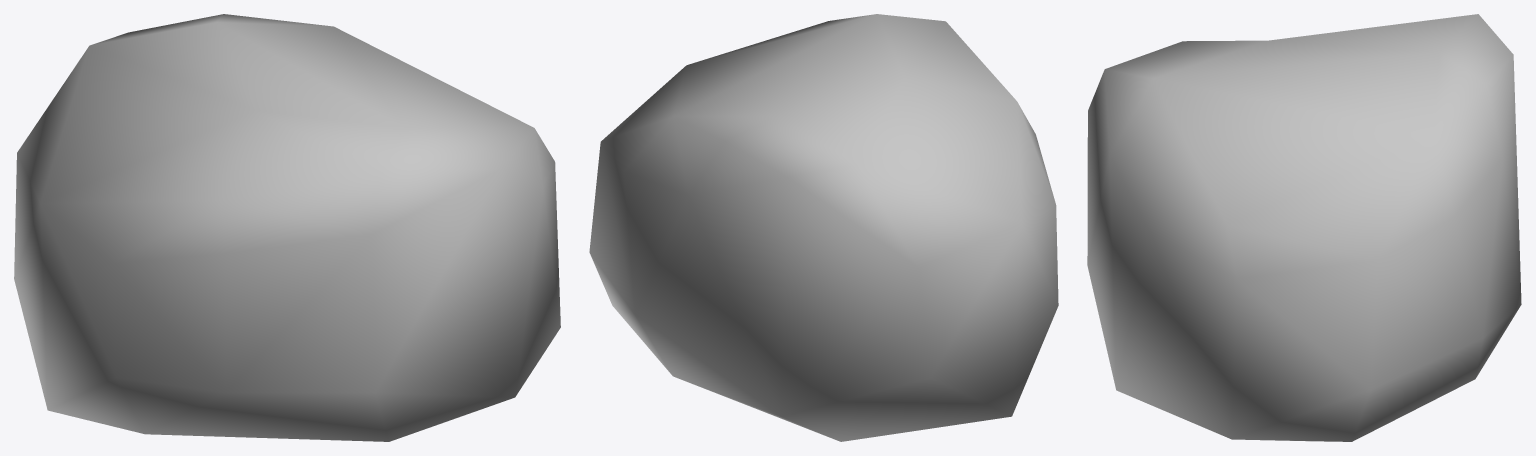
The model's file is Stone6.fbx.
The picture shows the model from 3 angles, left to right: view 1: azimuth 30°, elevation 25°; view 2: azimuth 150°, elevation 25°; view 3: azimuth 270°, elevation 25°; orthographic projection. The views are drawn at different scales.
Parts seen in each view (by area): view 1: Piedra_6; view 2: Piedra_6; view 3: Piedra_6.
Part boxes in pixels (<box>): Piedra_6: <box>14,14,560,441</box>; Piedra_6: <box>589,14,1058,441</box>; Piedra_6: <box>1087,14,1521,441</box>.
Bounding box in the file's own units: 4.47 × 2.91 × 3.78.
